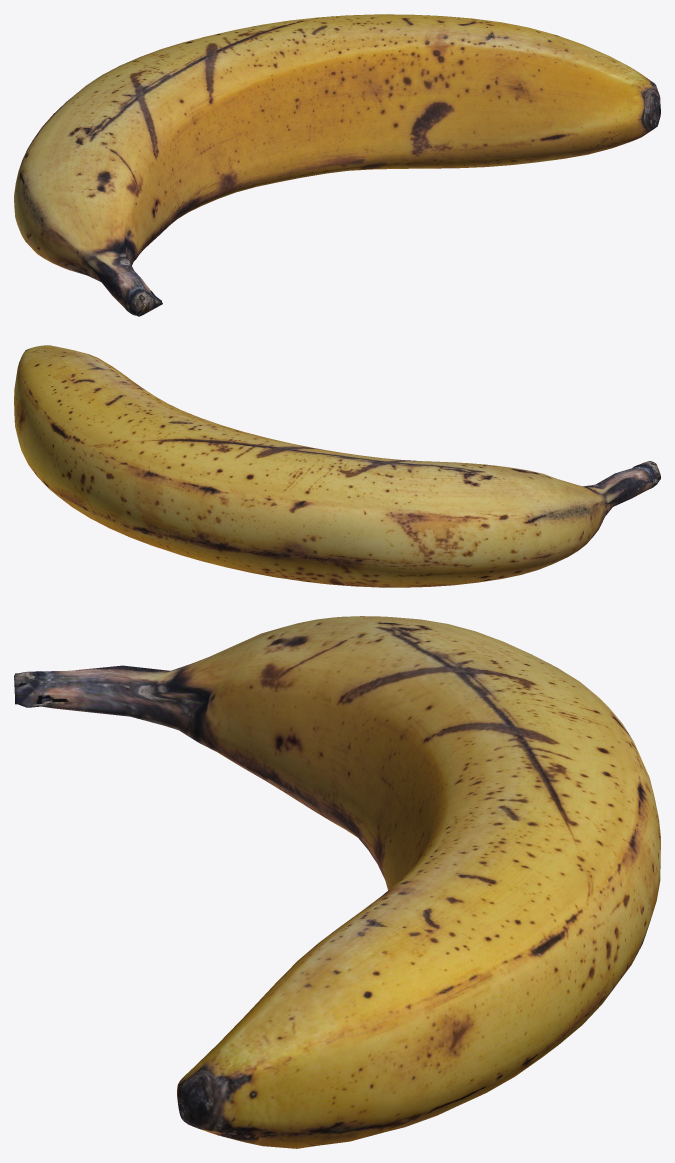
File: Banana.obj
3 views of the same model, one above another, from view 1: azimuth 30°, elevation 25°; view 2: azimuth 150°, elevation 25°; view 3: azimuth 270°, elevation 25° (orthographic). The views are drawn at different scales.
Visible parts, largest first — view 1: Banana_Cylinder; view 2: Banana_Cylinder; view 3: Banana_Cylinder.
Boxes of the visible parts, bbox=[...] form: Banana_Cylinder: bbox=[14, 14, 660, 316]; Banana_Cylinder: bbox=[14, 345, 660, 587]; Banana_Cylinder: bbox=[14, 616, 660, 1148].
Size of the model in its own units: 0.2002 by 0.0391 by 0.1174.
1 material, 1 textured.
